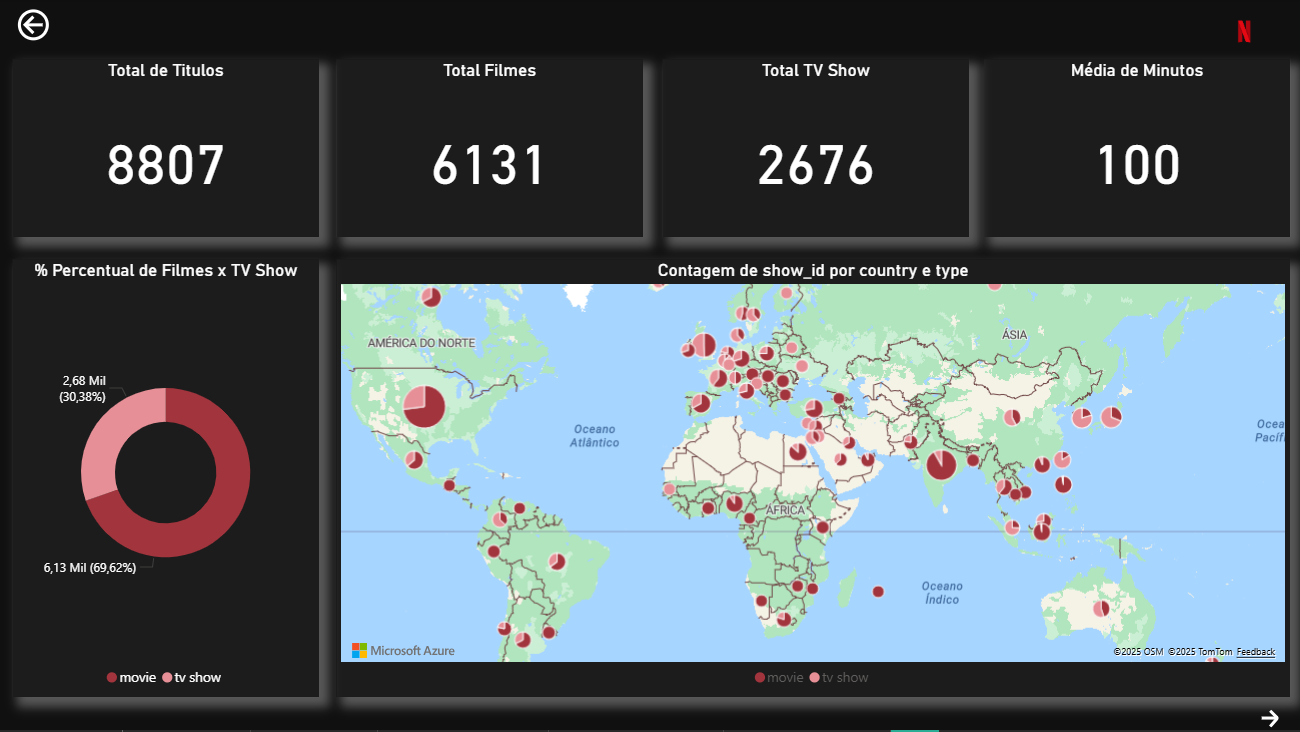

What the dashboard file says about the page in this screenshot:
{"tool":"powerbi","page":{"name":"Visão Geral","canvas":[1280,720],"ordinal":1},"visuals":[{"type":"image","box":[1179.1,6.1,88.3,54],"z":0},{"type":"actionButton","box":[13.5,6.1,42.9,40.5],"z":1000},{"type":"card","title":"Total de Titulos","fields":{"Values":["00_Medidas.TotTitulos"]},"box":[13.5,60.1,300.6,174.2],"z":2000},{"type":"card","title":"Total Filmes","fields":{"Values":["00_Medidas.TotTitulosMovies"]},"box":[331.3,60.1,300.6,174.2],"z":3000},{"type":"card","title":"Total TV Show","fields":{"Values":["00_Medidas.TotTitulosTvShow"]},"box":[651.5,60.1,300.6,174.2],"z":4000},{"type":"card","title":"Média de Minutos","fields":{"Values":["00_Medidas.MinutosMedio"]},"box":[966.9,60.1,300.6,174.2],"z":5000},{"type":"donutChart","title":"% Percentual de Filmes x TV Show","fields":{"Category":["titles_clean.type"],"Y":["CountNonNull(titles_clean.show_id)"]},"box":[13.5,256.4,300.6,429.5],"z":6000},{"type":"azureMap","fields":{"Category":["titles_by_country.country"],"Size":["CountNonNull(titles_by_country.show_id)"],"Series":["titles_clean.type"]},"box":[331.3,256.4,936.2,429.5],"z":7000},{"type":"actionButton","box":[1234.4,694.5,33.1,25.8],"z":8000}]}

Visuals, with their boxes in screenshot pixels (x1, y1, x2, y2), scaled from the page's 1280x720 canvas onto the 1300x732 screenshot:
image: (1198, 6, 1287, 61)
actionButton: (14, 6, 57, 47)
"Total de Titulos" card: (14, 61, 319, 238)
"Total Filmes" card: (336, 61, 642, 238)
"Total TV Show" card: (662, 61, 967, 238)
"Média de Minutos" card: (982, 61, 1287, 238)
"% Percentual de Filmes x TV Show" donutChart: (14, 261, 319, 697)
azureMap - titles_by_country.country x CountNonNull(titles_by_country.show_id): (336, 261, 1287, 697)
actionButton: (1254, 706, 1287, 731)
